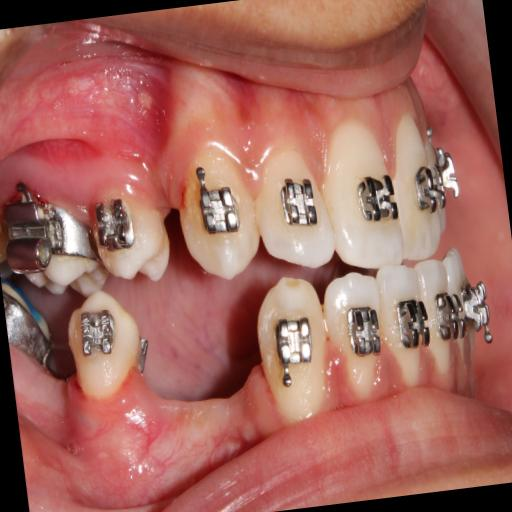correct_brace: (63, 285, 154, 413), (92, 184, 174, 286), (271, 303, 319, 387), (196, 168, 243, 242), (75, 304, 119, 373), (277, 171, 320, 233), (356, 172, 399, 228), (346, 302, 382, 356)
incorrect_brace: (251, 142, 338, 274), (319, 268, 388, 398), (94, 192, 136, 258)
